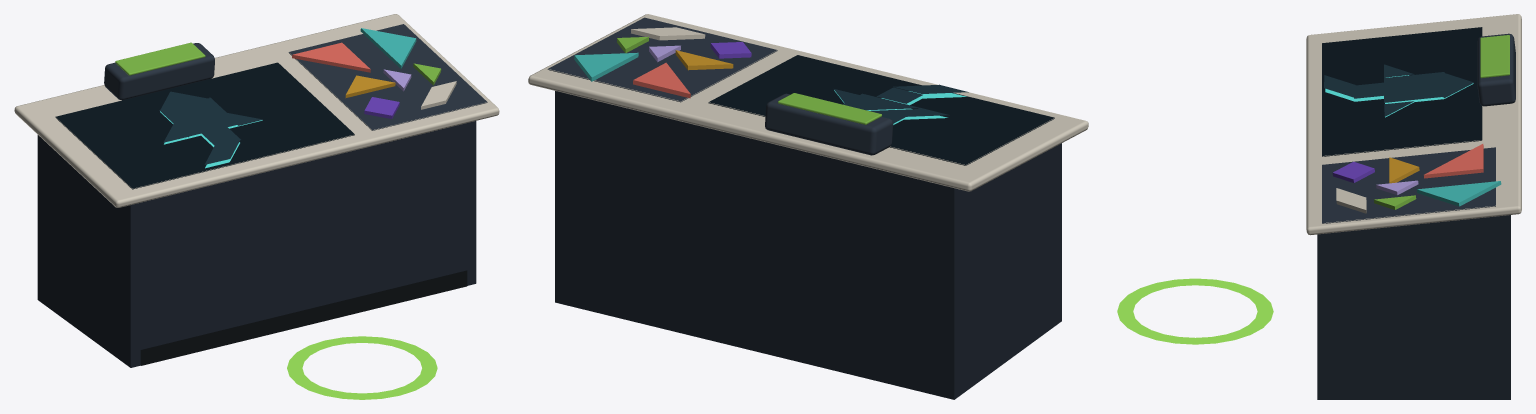
The model's file is console_tangram.glb.
3 views of the same model, side by side, from view 1: azimuth 30°, elevation 25°; view 2: azimuth 150°, elevation 25°; view 3: azimuth 270°, elevation 25° (orthographic). The views are drawn at different scales.
Visible parts, largest first — view 1: console_malha, silhueta_apagada_malha, peca_grande_1_malha, peca_grande_2_malha, peca_medio_malha, peca_quadrado_malha, peca_paralelogramo_malha; view 2: console_malha, silhueta_apagada_malha, peca_grande_2_malha, peca_grande_1_malha, peca_paralelogramo_malha, peca_medio_malha, peca_quadrado_malha, silhueta_acesa; view 3: console_malha, silhueta_apagada_malha, peca_grande_2_malha, peca_grande_1_malha, peca_quadrado_malha, peca_paralelogramo_malha, peca_medio_malha, silhueta_acesa, peca_pequeno_2_malha, peca_pequeno_1_malha.
Boxes of the visible parts, box(x1,y1,x2,y2) form: console_malha: box(14, 14, 499, 399); silhueta_apagada_malha: box(159, 91, 262, 164); peca_grande_1_malha: box(292, 42, 370, 72); peca_grande_2_malha: box(360, 28, 416, 68); peca_medio_malha: box(345, 75, 395, 98); peca_quadrado_malha: box(364, 97, 399, 118); peca_paralelogramo_malha: box(421, 81, 456, 109); console_malha: box(528, 14, 1088, 399); silhueta_apagada_malha: box(834, 84, 968, 123); peca_grande_2_malha: box(574, 52, 638, 81); peca_grande_1_malha: box(633, 62, 690, 98); peca_paralelogramo_malha: box(631, 27, 705, 40); peca_medio_malha: box(675, 50, 733, 70); peca_quadrado_malha: box(710, 42, 751, 58); silhueta_acesa: box(834, 90, 966, 124); console_malha: box(1117, 14, 1521, 399); silhueta_apagada_malha: box(1324, 64, 1473, 116); peca_grande_2_malha: box(1417, 181, 1501, 206); peca_grande_1_malha: box(1424, 144, 1483, 178); peca_quadrado_malha: box(1332, 161, 1374, 182); peca_paralelogramo_malha: box(1336, 188, 1366, 213); peca_medio_malha: box(1389, 157, 1419, 183); silhueta_acesa: box(1325, 75, 1473, 117); peca_pequeno_2_malha: box(1376, 180, 1418, 195); peca_pequeno_1_malha: box(1374, 195, 1416, 209).
Bounding box in the file's own units: 2 × 1.1 × 1.76.
